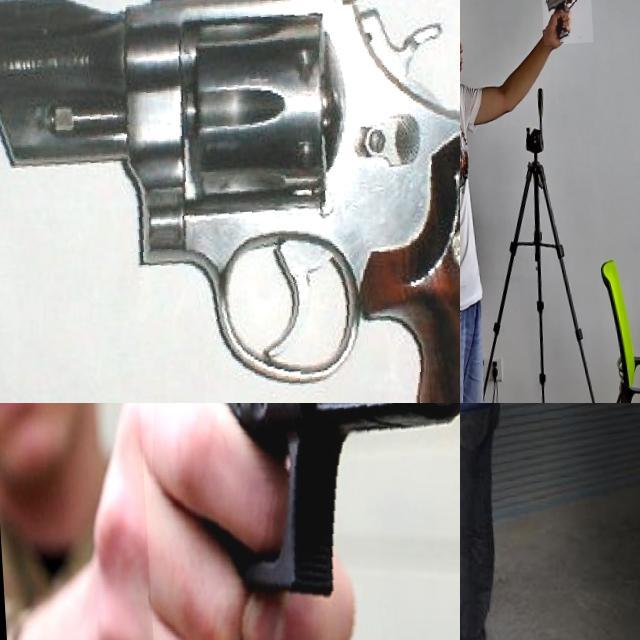-: (460, 432, 486, 451)
gun-knife-thesis - v11 Yolov5 augmented: (0, 0, 460, 403), (123, 403, 460, 640), (538, 0, 591, 49)
